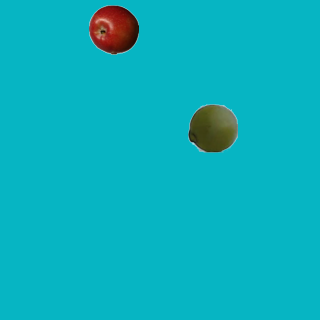Apple Braeburn: (88, 4, 138, 54)
Grape White 4: (187, 102, 237, 152)
